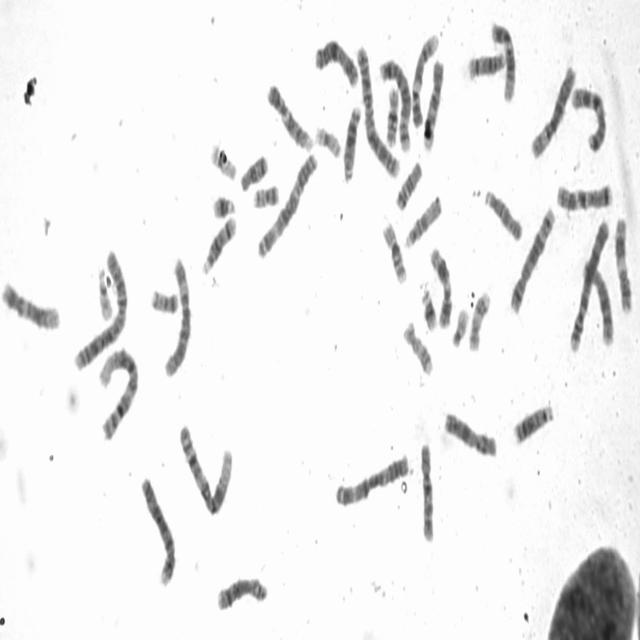A1: (176, 415, 236, 518), (94, 340, 140, 442)
A2: (70, 243, 129, 373), (353, 36, 401, 181)
A3: (253, 144, 320, 260), (331, 444, 411, 510)
B4: (566, 211, 610, 355), (138, 468, 177, 588)
B5: (506, 197, 556, 316), (376, 50, 414, 154)
C10: (420, 50, 445, 152), (417, 433, 436, 545)
C11: (427, 239, 454, 330), (612, 208, 634, 316)
C12: (0, 272, 62, 332), (487, 12, 518, 104)
C6: (527, 57, 578, 161), (160, 248, 193, 379)
C7: (568, 77, 608, 155), (553, 174, 615, 212)
C8: (579, 252, 616, 348), (213, 568, 270, 613)
C9: (263, 76, 314, 153), (408, 24, 441, 130)
D13: (510, 395, 555, 446), (340, 98, 362, 183)
D14: (198, 207, 238, 277), (464, 43, 507, 81)
D15: (481, 180, 524, 243), (401, 187, 443, 250)
E16: (379, 213, 408, 286), (382, 80, 401, 148)
E17: (400, 312, 435, 378), (466, 283, 492, 353)
E18: (392, 154, 423, 211), (237, 145, 269, 193)
F19: (206, 135, 238, 182), (312, 117, 343, 160)
F20: (147, 280, 180, 316), (249, 175, 281, 210)
G21: (418, 280, 439, 332), (209, 186, 236, 220)
G22: (94, 258, 114, 322), (448, 300, 470, 350)
X: (441, 404, 498, 459), (311, 30, 360, 89)
